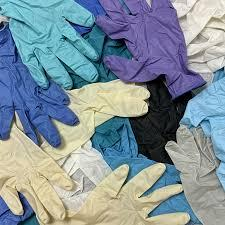Glove: (96, 0, 204, 98), (0, 25, 77, 146), (0, 0, 98, 88), (41, 80, 149, 159), (50, 164, 189, 224), (0, 126, 73, 222), (165, 125, 224, 224), (180, 70, 224, 189), (130, 78, 191, 163), (53, 141, 111, 210), (92, 117, 155, 180), (84, 25, 131, 81), (0, 194, 32, 224), (75, 0, 105, 16)
